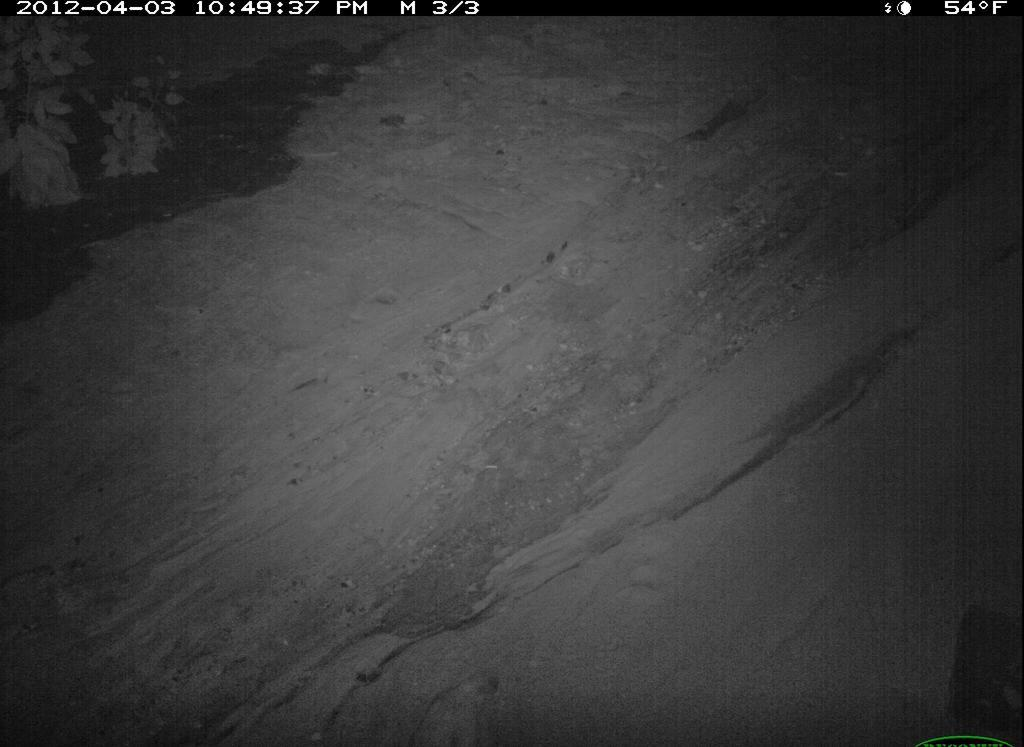bobcat: (4, 41, 1024, 747)
